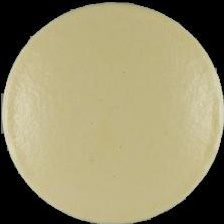64725-0981: (0, 0, 224, 224)
